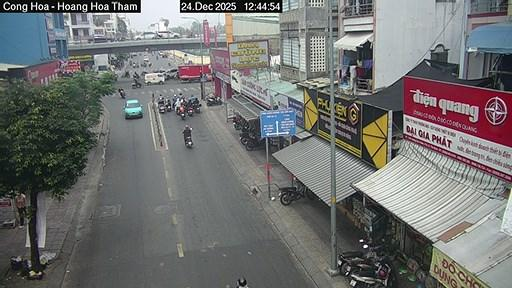motorbike: (336, 242, 380, 275), (348, 260, 394, 287), (278, 184, 314, 205), (239, 130, 259, 144), (246, 138, 265, 149), (233, 113, 240, 129), (205, 97, 220, 104), (185, 135, 192, 148), (176, 108, 185, 118), (157, 102, 165, 112), (194, 103, 201, 112), (186, 106, 192, 116), (121, 71, 130, 76), (131, 81, 140, 86), (166, 100, 170, 111), (179, 111, 185, 118), (359, 238, 362, 242)
